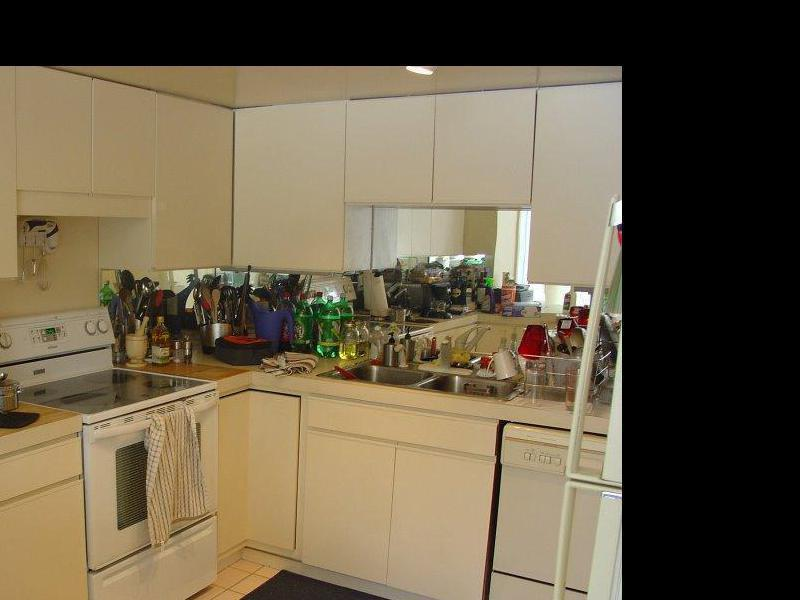Electrodomestico: (81, 384, 215, 600), (485, 428, 591, 600)
